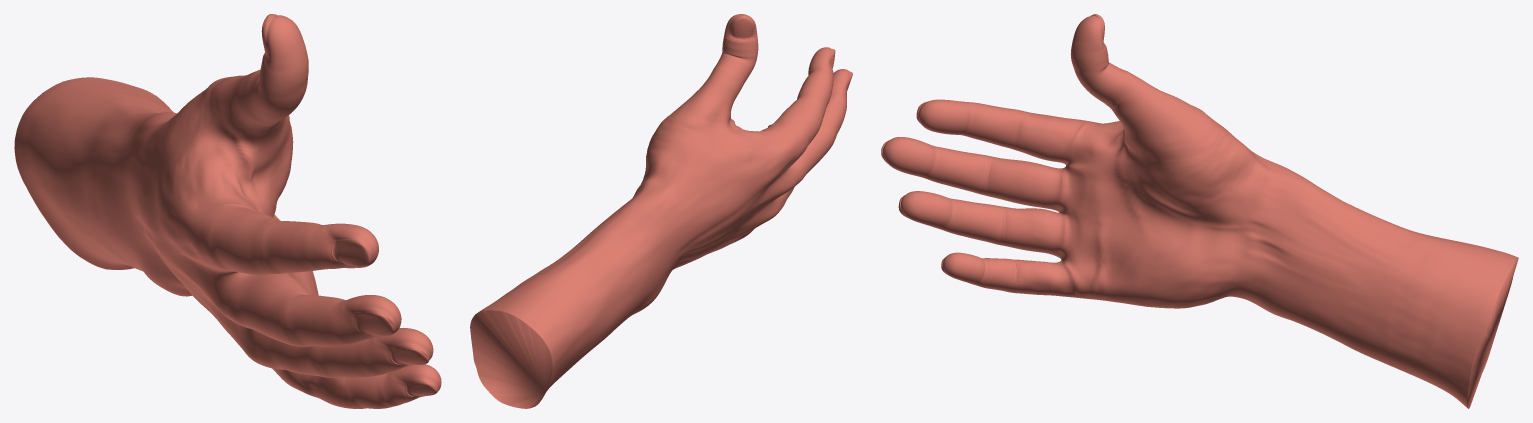
Rendered from Rigged Hands.fbx.
The picture shows the model from 3 angles, left to right: view 1: azimuth 30°, elevation 25°; view 2: azimuth 150°, elevation 25°; view 3: azimuth 270°, elevation 25°; orthographic projection. The views are drawn at different scales.
Parts seen in each view (by area): view 1: Hand.R.003; view 2: Hand.R.003; view 3: Hand.R.003.
Part boxes in pixels (x1,y1,x2,y2): Hand.R.003: (14,14,441,408); Hand.R.003: (470,14,852,408); Hand.R.003: (881,14,1518,408).
Bounding box in the file's own units: 47.79 × 81.84 × 137.
